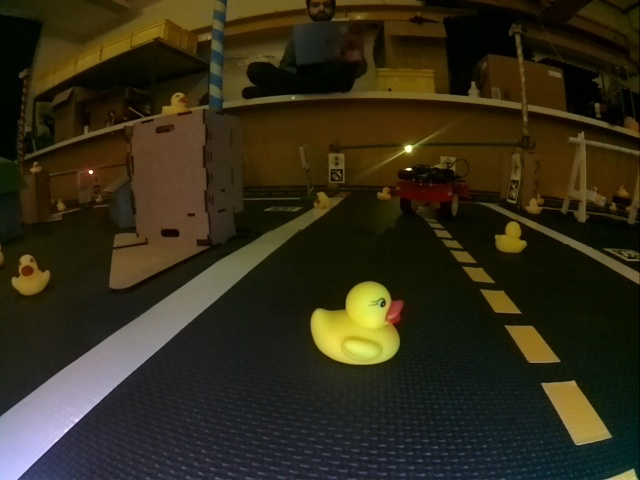Duckie: (314, 280, 403, 364), (13, 256, 49, 295), (495, 222, 526, 252), (161, 93, 188, 113), (313, 192, 329, 208), (526, 199, 542, 214), (377, 188, 391, 198)
Duckiebot: (396, 164, 468, 218)
Intersection sign: (511, 157, 520, 176)
QR code: (604, 245, 639, 262), (266, 205, 301, 214), (508, 180, 518, 203), (330, 169, 343, 180)
Signal sign: (330, 155, 341, 165)
Traffic light: (404, 142, 414, 153)
